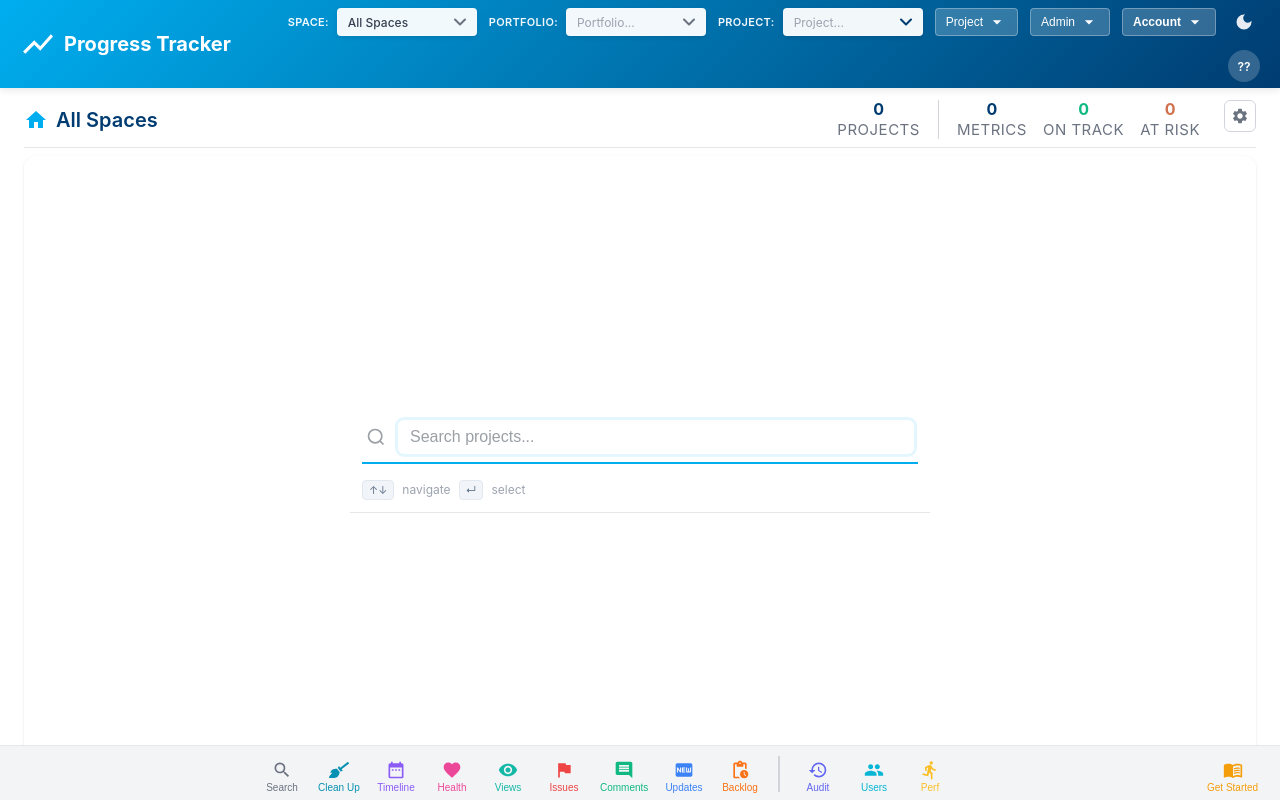
Test: App Dropdown Race Conditions › User Dropdown (Account Menu) › should close dropdown when Change Password is clicked
Note: Open user dropdown
Click the button "Account": [1169, 22] box [1122,8,1216,36]
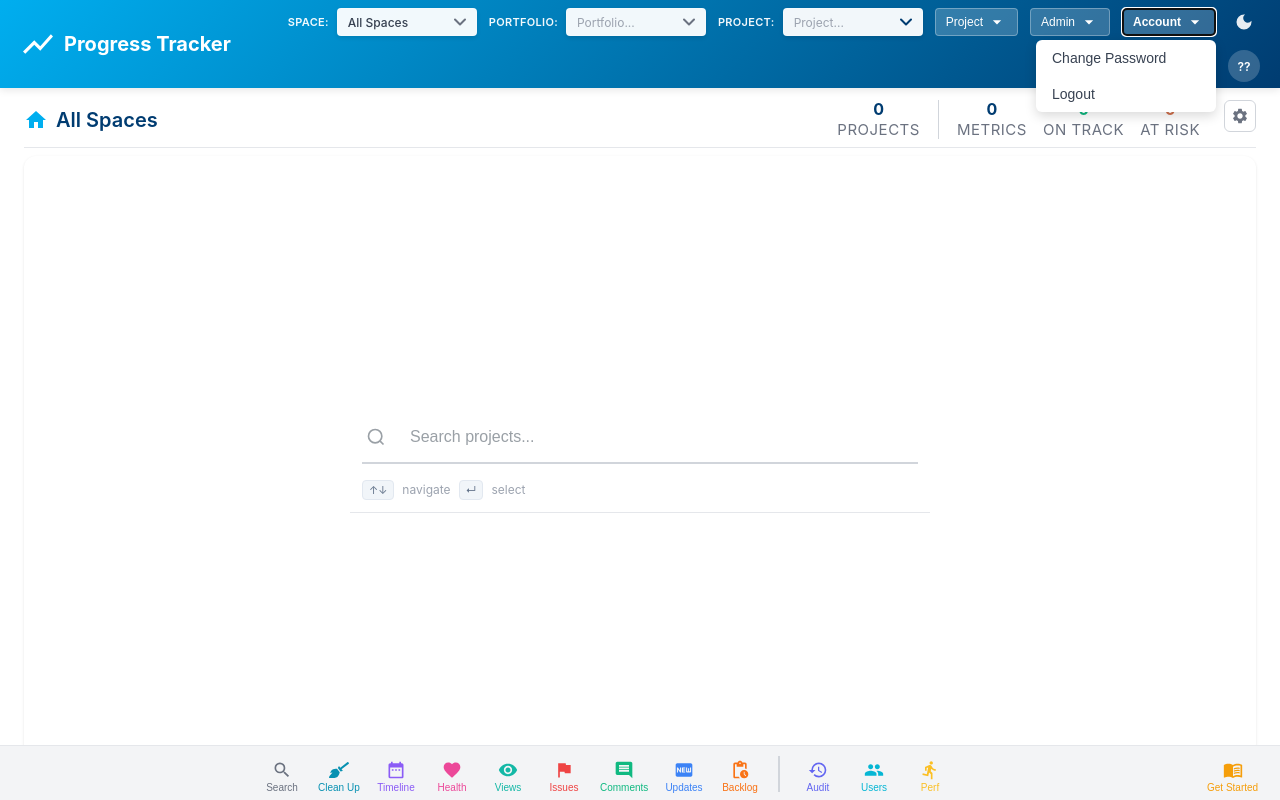
Result: the button "Change Password" is shown
Click the button "Change Password": [1126, 58] box [1036,40,1216,76]
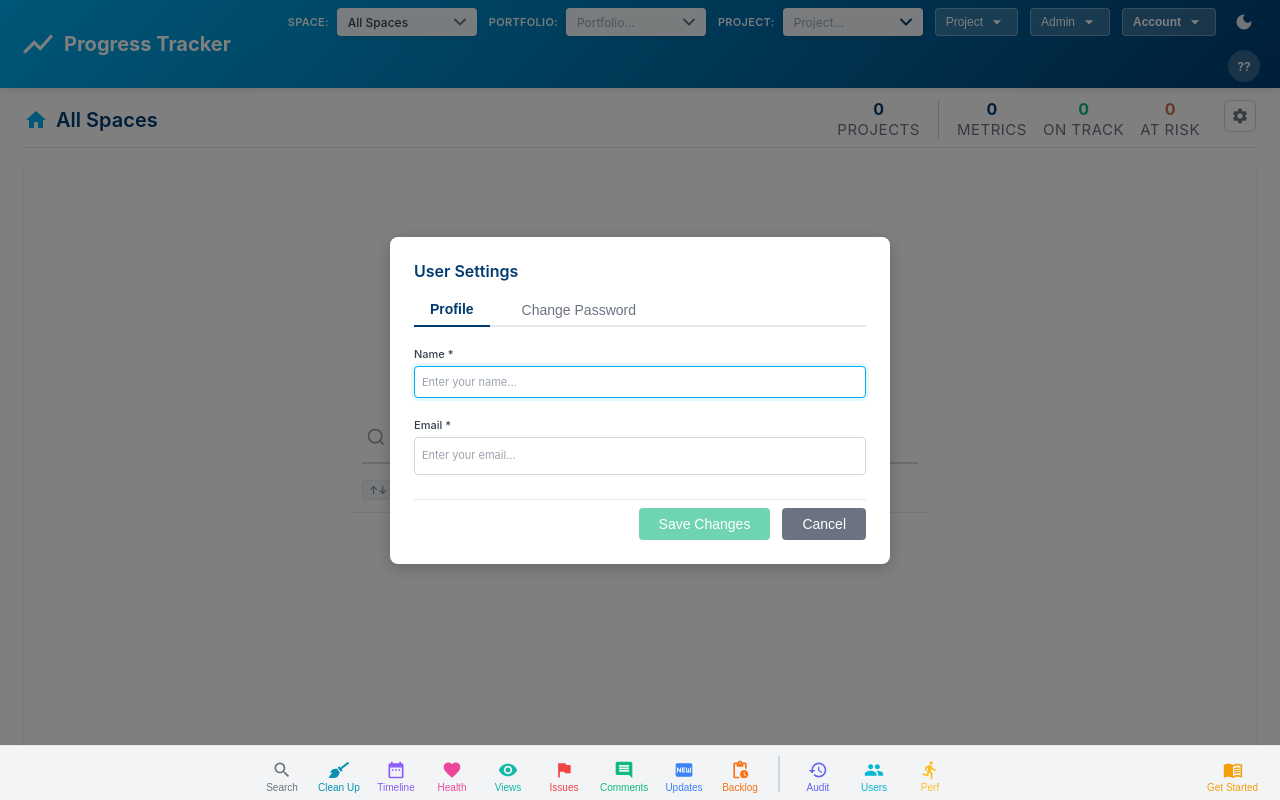
Result: the button "Change Password" is shown at [506,292,652,326]
